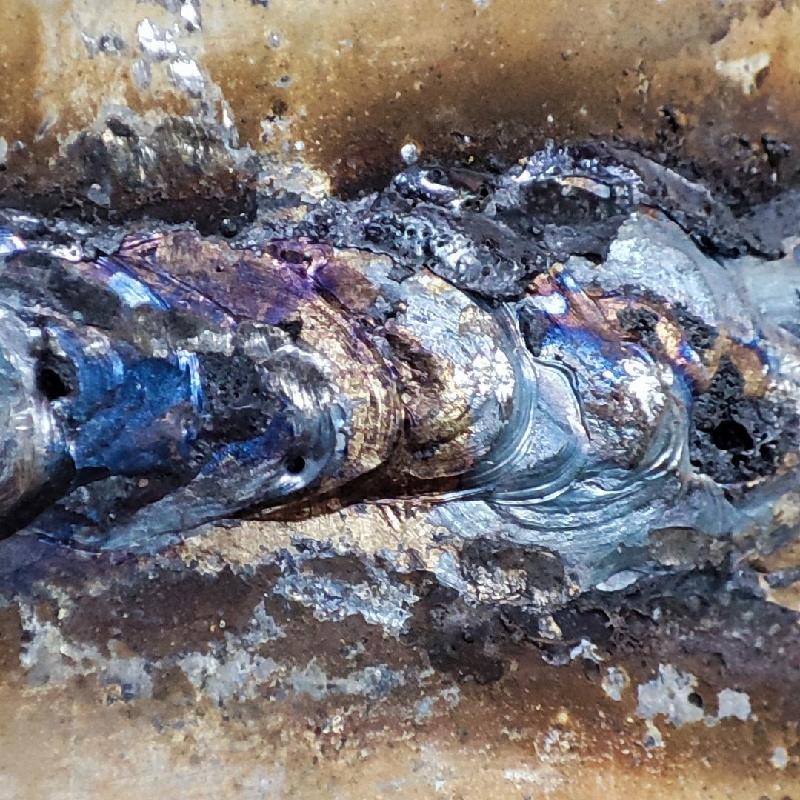Surface_pores: (693, 390, 778, 480), (19, 339, 103, 423), (271, 430, 324, 494)
good: (3, 152, 799, 564)
